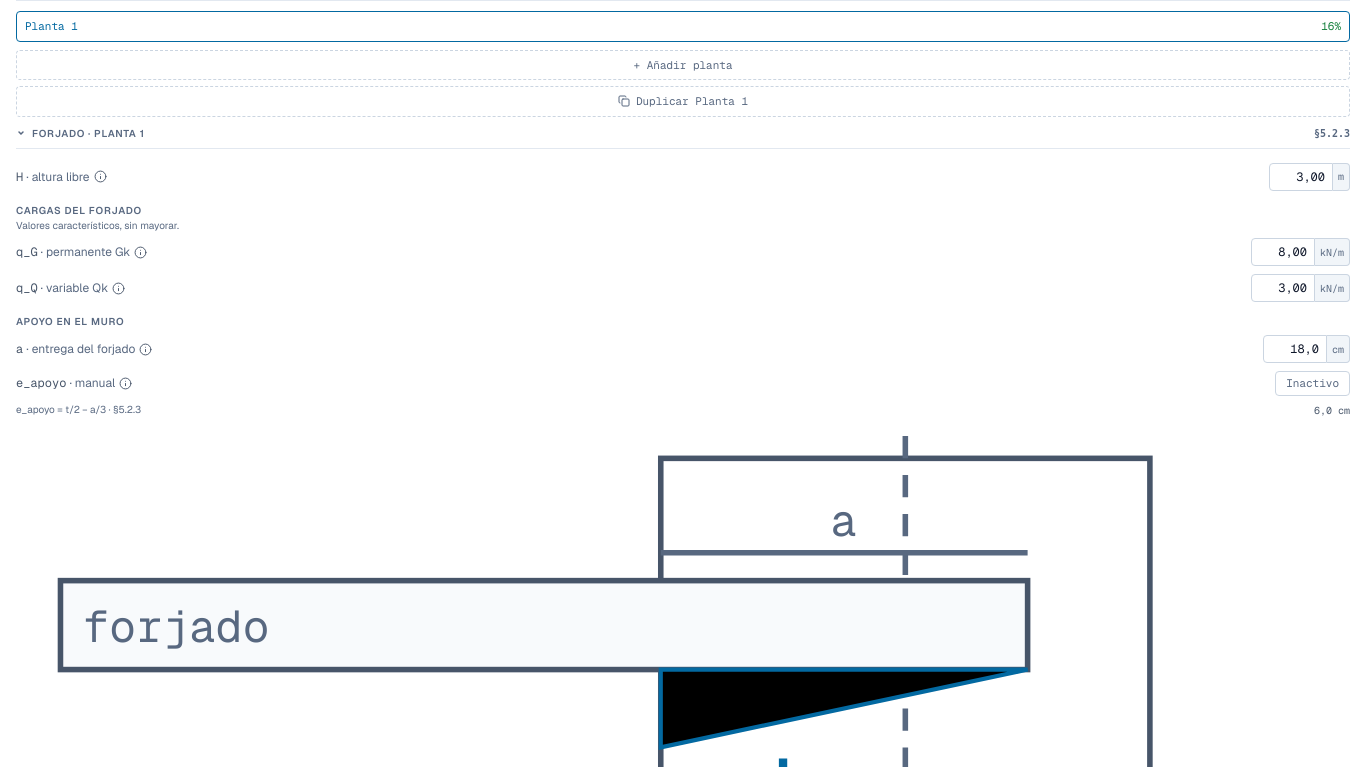
Test: EApoyoField — modo auto ⇄ manual › activar manual siembra exactamente eApoyoForjado(t, a) en el state
(page scrolled)
Step 1. Click the button "Inactivo" → (1313, 383), box x1=1275 y1=371 x2=1350 y2=396
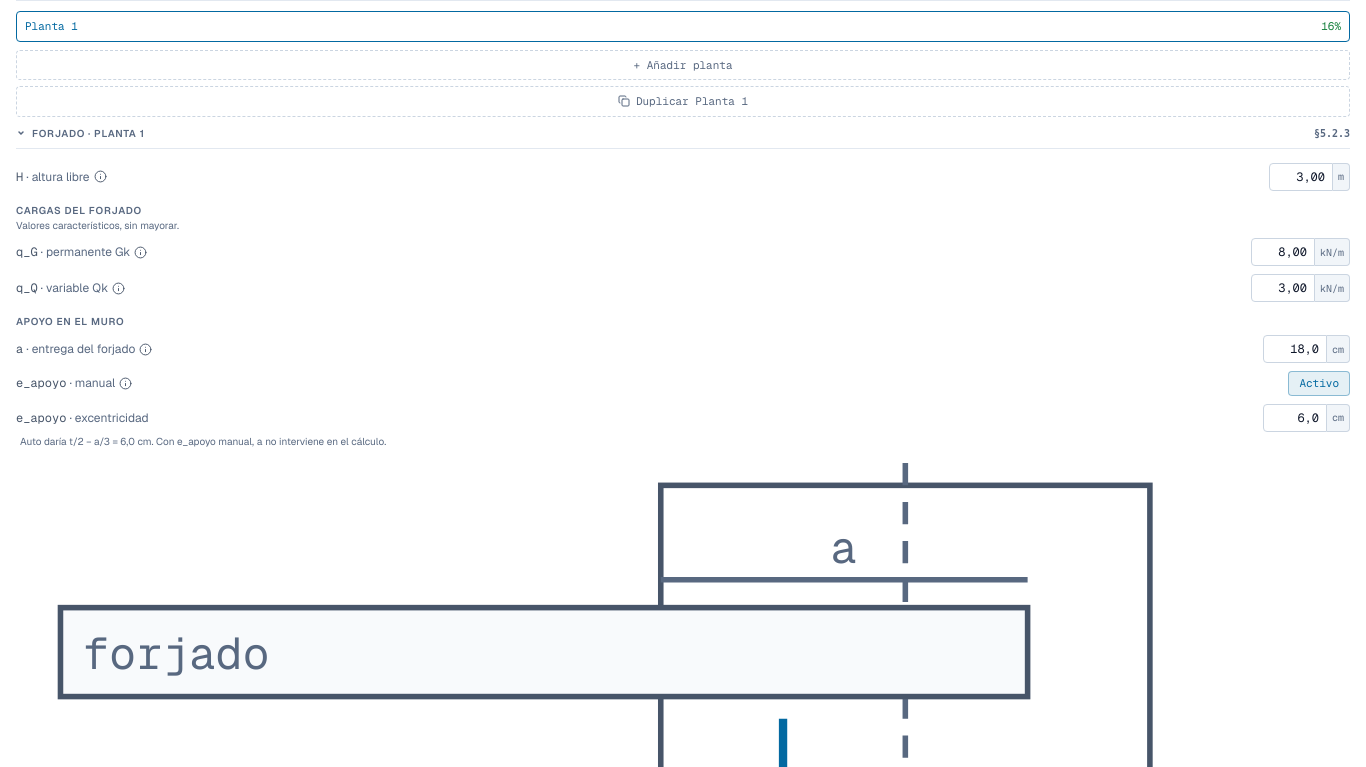
Result: the button "Activo" is shown at x1=1288 y1=371 x2=1350 y2=396
